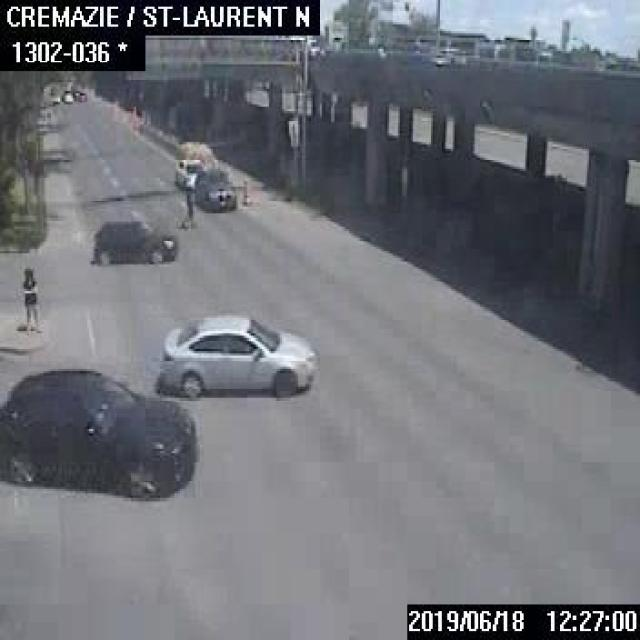construction: (240, 169, 249, 204)
pedestrian: (20, 262, 38, 336), (176, 182, 193, 229)
vehicle: (0, 364, 196, 497), (158, 314, 318, 396), (89, 213, 176, 264), (193, 169, 233, 209), (172, 157, 205, 189), (48, 92, 59, 102), (64, 91, 72, 102), (77, 91, 85, 100)
